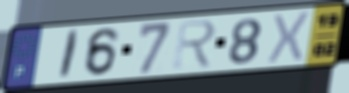6: (82, 27, 121, 78)
7: (137, 22, 173, 77)
8: (229, 17, 264, 65)
I: (56, 28, 82, 81)
R: (171, 19, 219, 71)
X: (265, 10, 313, 65)
